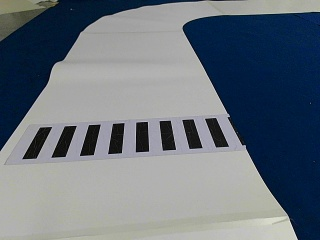crosswalk: (23, 120, 233, 158)
